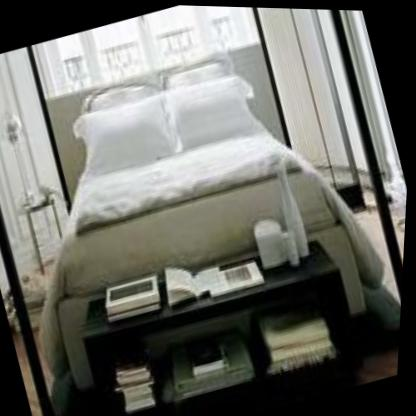Bed: (0, 18, 387, 402)
Table: (70, 223, 377, 416)
